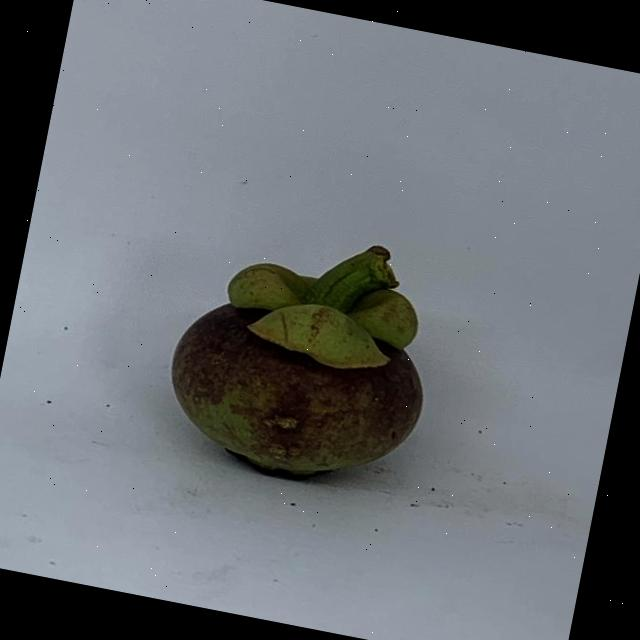mangosteen: (152, 208, 458, 498)
